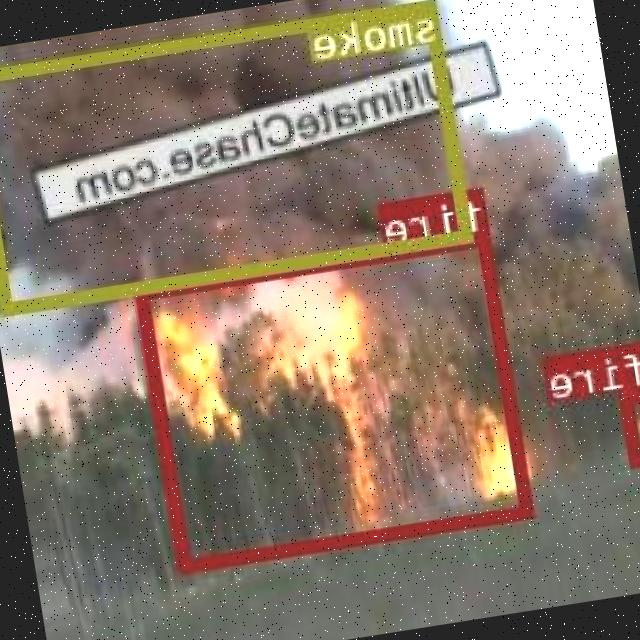fire: (138, 230, 538, 572), (620, 384, 640, 465)
smoke: (0, 0, 477, 314)
